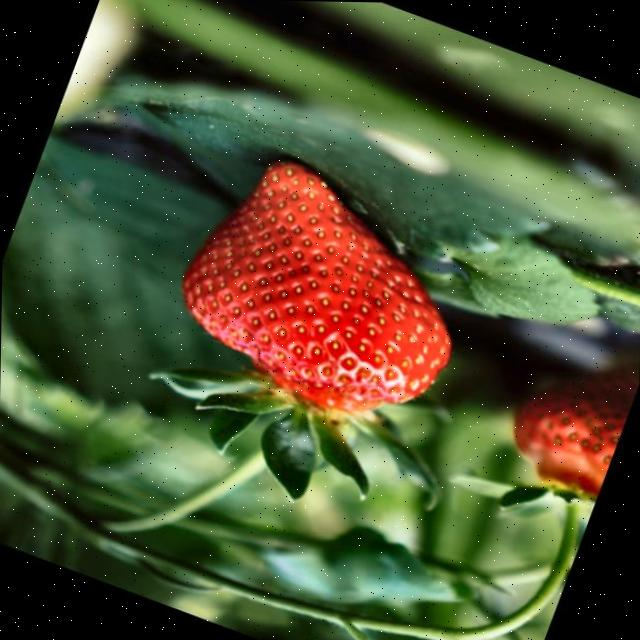strawberry: (182, 160, 450, 413), (513, 373, 638, 495)
